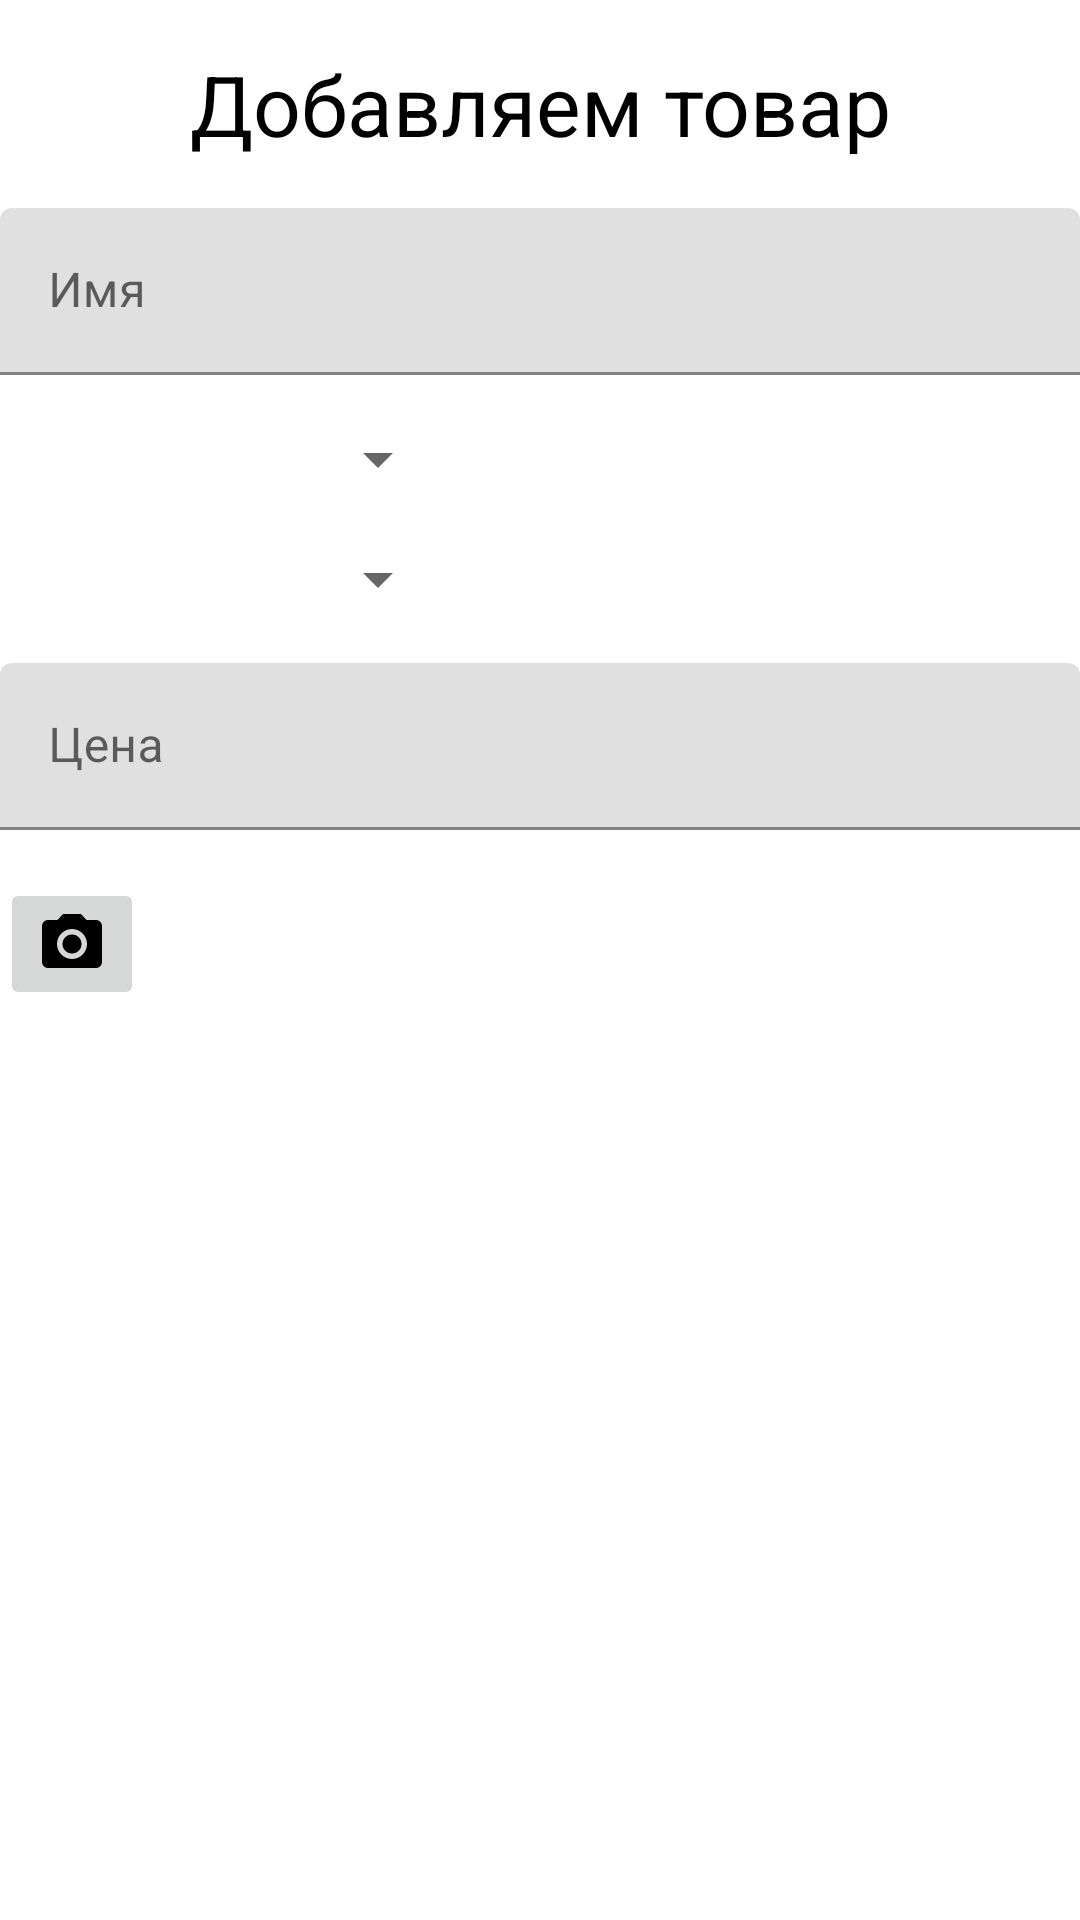

Named icons in this screenshot (1080w x 1920h) and their bounding boxes, bbox=(x1, y1, x2, y2):
photo camera: bbox=(12, 896, 132, 992)
